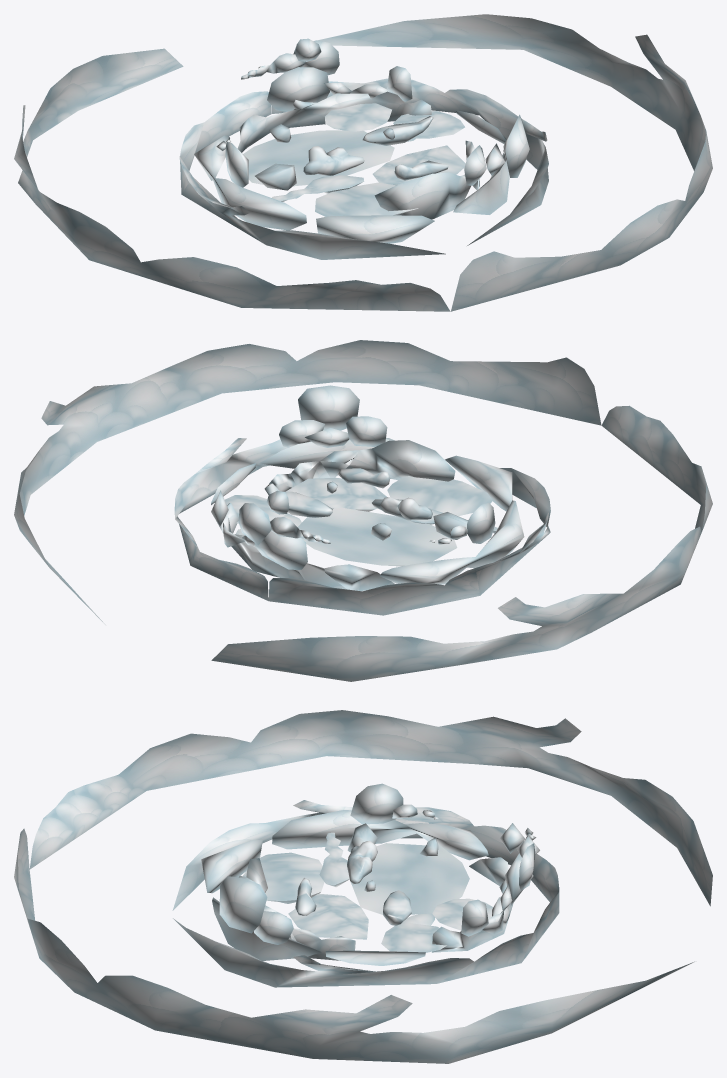
File: ENVO_CloudLand.obj
3 views of the same model, one above another, from view 1: azimuth 30°, elevation 25°; view 2: azimuth 150°, elevation 25°; view 3: azimuth 270°, elevation 25° (orthographic). The views are drawn at different scales.
Visible parts, largest first — view 1: CloudLandOuterClouds, CloudLandLandClouds, CloudLandSmallClouds; view 2: CloudLandOuterClouds, CloudLandLandClouds, CloudLandSmallClouds; view 3: CloudLandOuterClouds, CloudLandLandClouds, CloudLandSmallClouds.
Part boxes in pixels (x1,y1,x2,y2): CloudLandOuterClouds: (14, 14, 712, 311); CloudLandLandClouds: (243, 103, 465, 216); CloudLandSmallClouds: (255, 116, 448, 190); CloudLandOuterClouds: (14, 340, 712, 681); CloudLandLandClouds: (225, 476, 497, 566); CloudLandSmallClouds: (264, 468, 468, 540); CloudLandOuterClouds: (14, 710, 712, 1063); CloudLandLandClouds: (243, 832, 493, 952); CloudLandSmallClouds: (295, 823, 438, 925).
Size of what is drawn, in the model's own units: 14928 by 2213 by 14258.
Materials: 3 (3 with a texture image).
